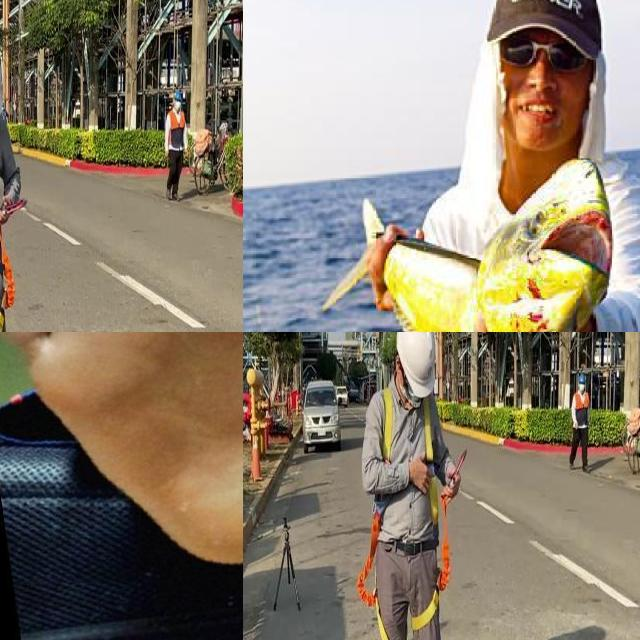Barefoots: (0, 332, 243, 573)
Harness: (412, 397, 451, 634), (357, 504, 391, 640), (0, 224, 17, 332)
face_nomask: (497, 27, 588, 135)
glasses: (490, 28, 588, 66)
hand_noglove: (345, 223, 425, 305), (457, 306, 603, 332)
